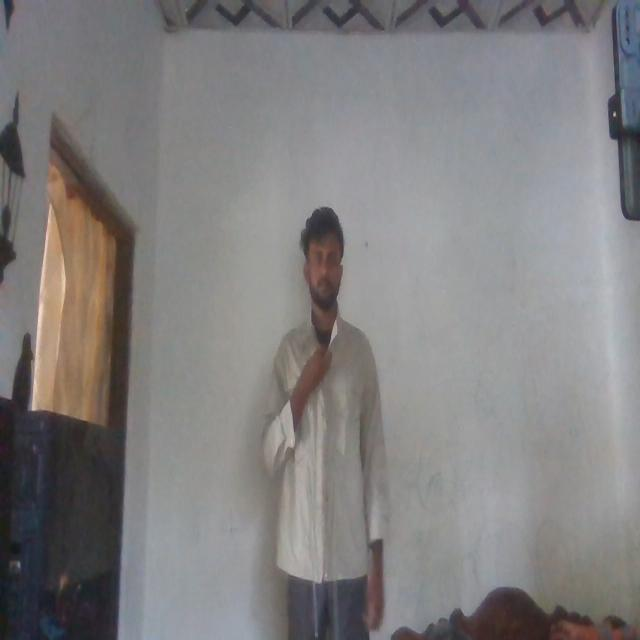Jacket_Wearer: (261, 306, 386, 572)
Person: (254, 199, 388, 636)
